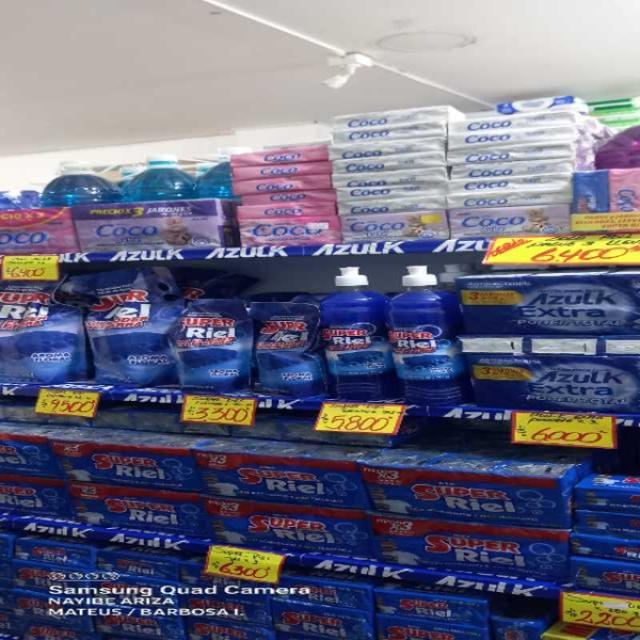Super_Riel: (319, 262, 396, 404), (388, 265, 464, 408)
